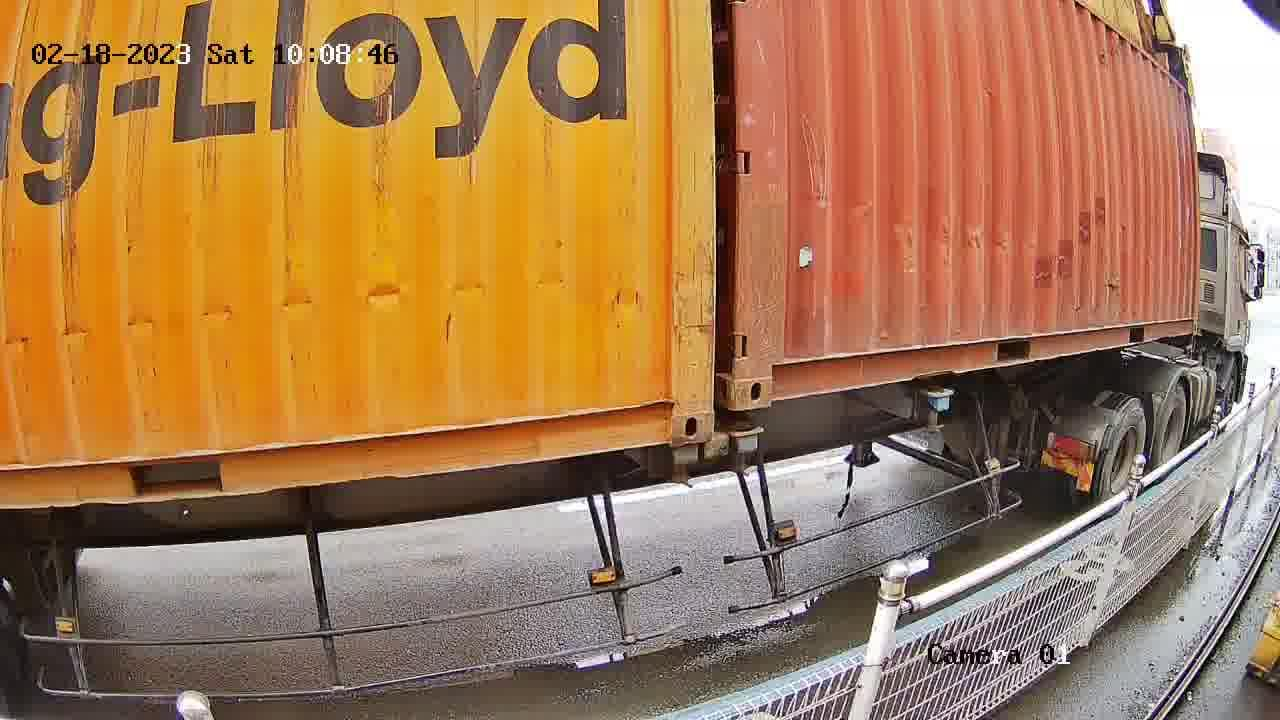Cone: (727, 423, 766, 480), (665, 444, 701, 488)
Hole_L: (736, 336, 804, 410)
Hole_R: (635, 376, 714, 449)
Tire: (1102, 401, 1148, 510), (1152, 388, 1188, 480)
